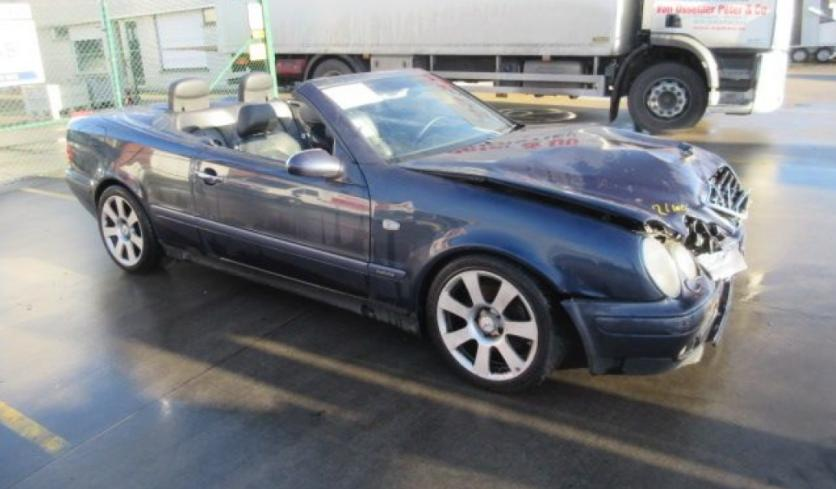Back-bumper: (66, 168, 100, 219)
Back-wheel: (97, 184, 163, 276)
Fender: (359, 162, 667, 313)
Front-bumper: (559, 228, 749, 377)
Front-door: (190, 130, 371, 297)
Front-wheel: (426, 255, 568, 392)
Grille: (678, 167, 750, 264)
Headlight: (642, 237, 701, 297)
Hood: (397, 122, 749, 264)
License-plate: (716, 270, 738, 313)
Mirror: (289, 148, 362, 185)
Quarter-panel: (67, 112, 203, 251)
Rocker-panel: (159, 244, 418, 334)
Tail-light: (66, 142, 75, 162)
Windshield: (309, 66, 518, 166)
